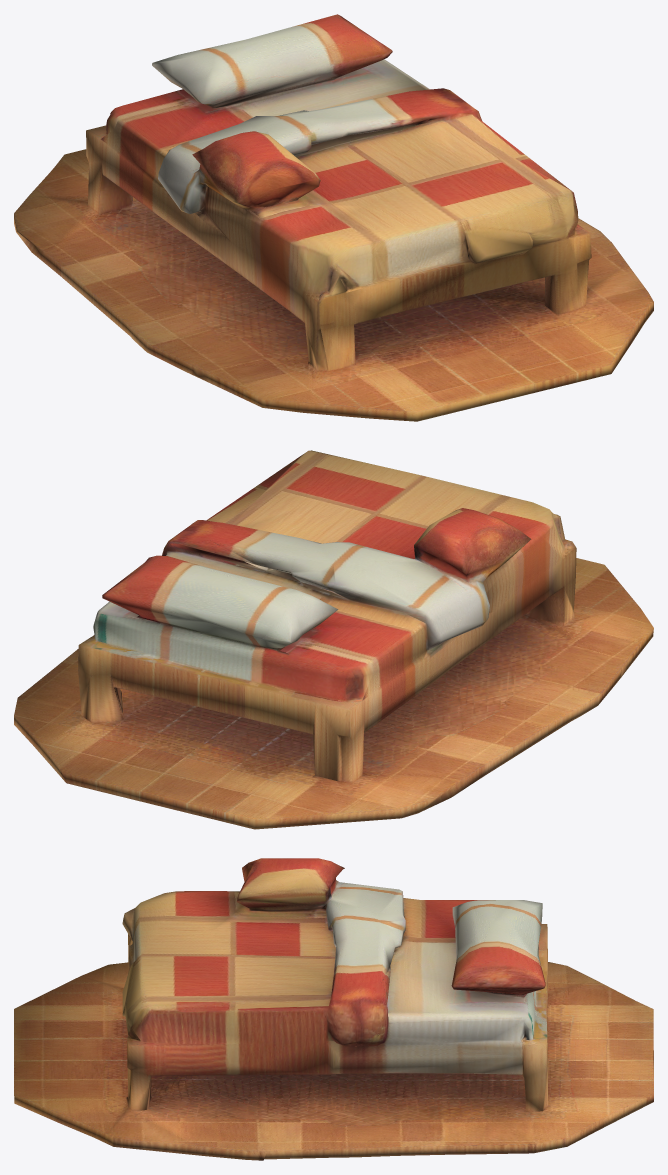
File: bed.glb
3 renders of one model, top to bottom at view 1: azimuth 30°, elevation 25°; view 2: azimuth 150°, elevation 25°; view 3: azimuth 270°, elevation 25°, orthographic. The views are drawn at different scales.
Size of the model in its own units: 1.49 by 0.5302 by 2.
Materials: 1 (1 with a texture image).
